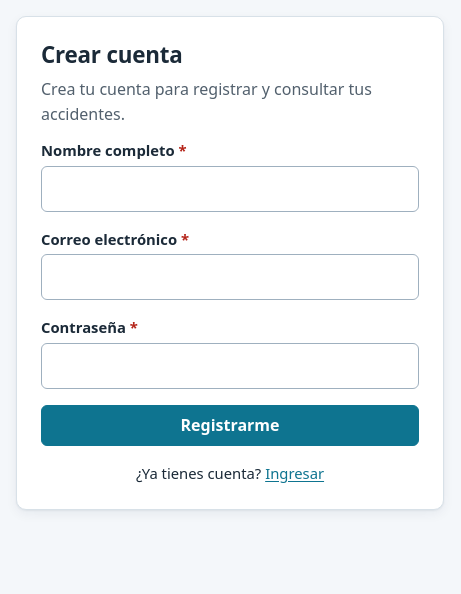
Test: RegisterPage › 409 informa que el email ya está registrado (DEC-021)
Type "Ana Pérez" into the field labelled "Nombre completo". click: (230, 188)
box: x1=41 y1=166 x2=419 y2=212
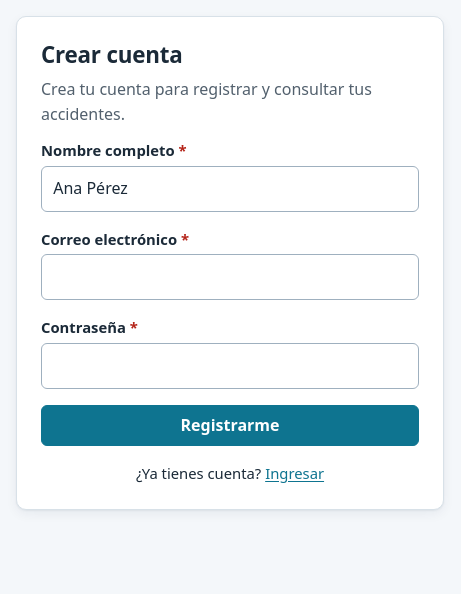
Type "a@b.co" into the field labelled "Correo electrónico". click: (230, 277)
box: x1=41 y1=254 x2=419 y2=300
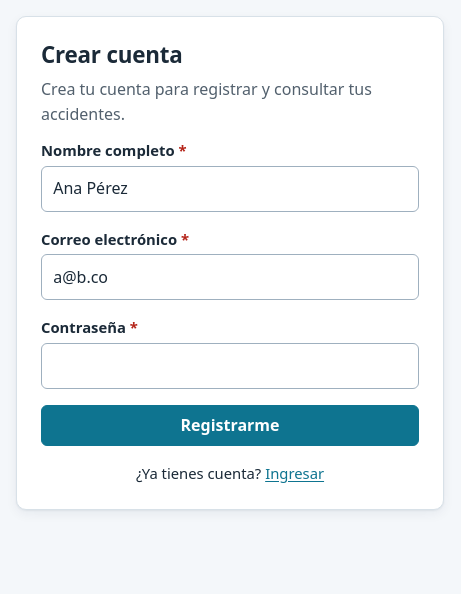
Type "secreto123" into the password field labelled "Contraseña". click: (230, 366)
box: x1=41 y1=343 x2=419 y2=389
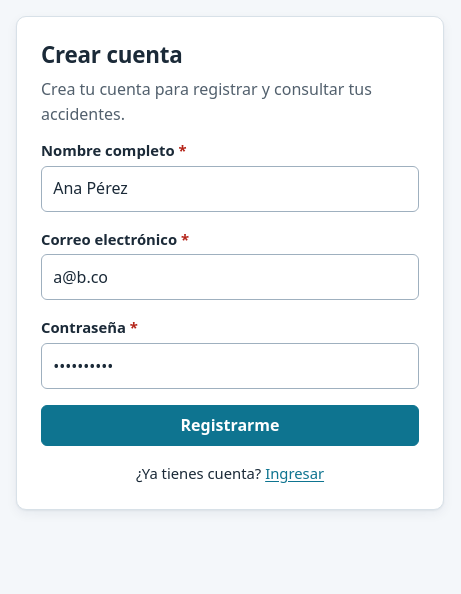
Click the button "Registrarme". click: (230, 426)
box: x1=41 y1=405 x2=419 y2=446
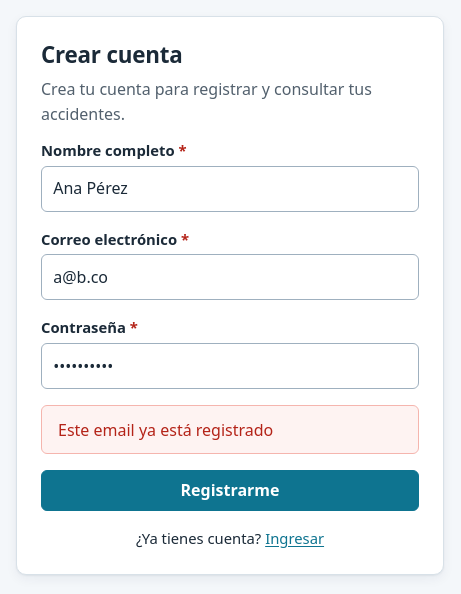
Now the message reads "Este email ya está registrado", box x1=58 y1=418 x2=273 y2=440
